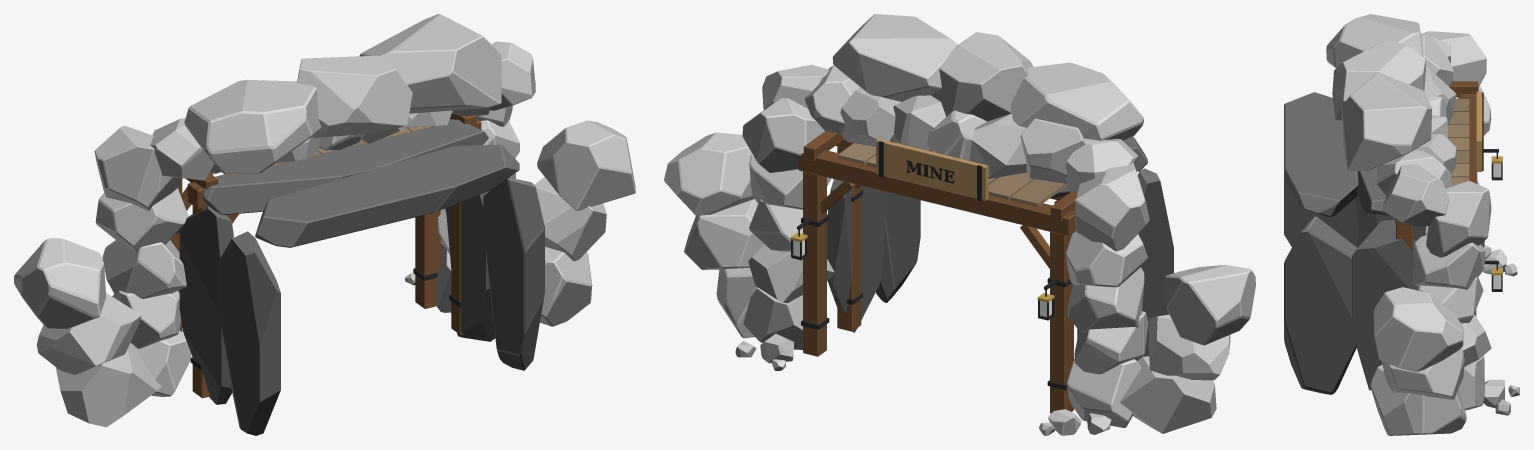
The model's file is CaveMouth.glb.
The picture shows the model from 3 angles, left to right: view 1: azimuth 30°, elevation 25°; view 2: azimuth 150°, elevation 25°; view 3: azimuth 270°, elevation 25°; orthographic projection. The views are drawn at different scales.
Parts seen in each view (by area): view 1: Body, Frame; view 2: Body, Frame; view 3: Body, Frame, Glow.
Part boxes in pixels (<box>): Body: <box>14,14,635,435</box>; Frame: <box>170,113,481,398</box>; Body: <box>664,14,1255,435</box>; Frame: <box>790,131,1076,413</box>; Body: <box>1284,14,1519,435</box>; Frame: <box>1395,81,1502,316</box>; Glow: <box>1493,163,1501,288</box>.
Size of what is drawn, in the model's own units: 39.42 by 20.23 by 15.26.
